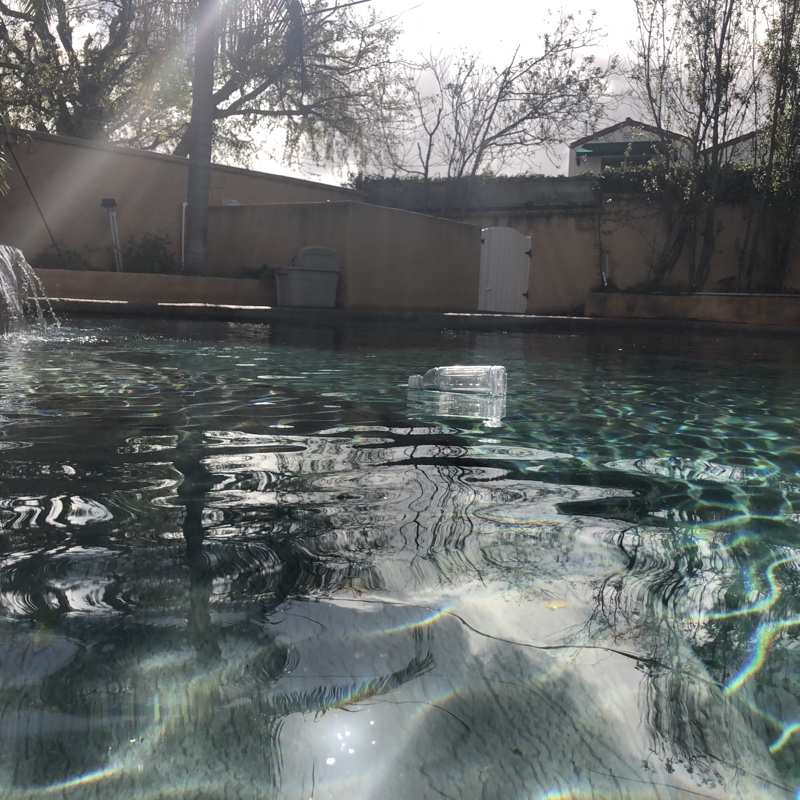Plastic Bottle: (404, 359, 510, 400)
